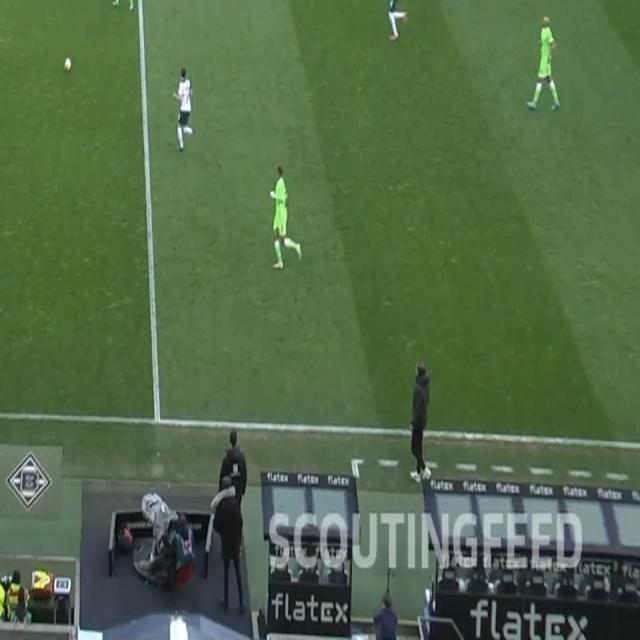ball: (64, 55, 74, 72)
